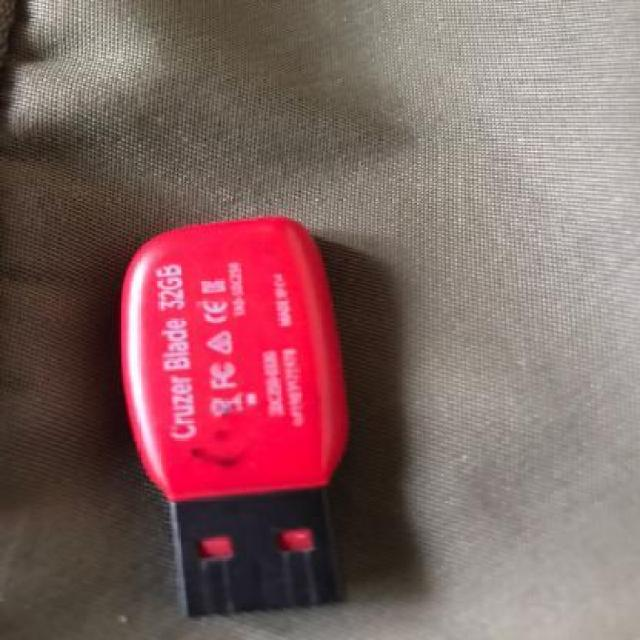Flashdisk: (88, 202, 423, 622)
